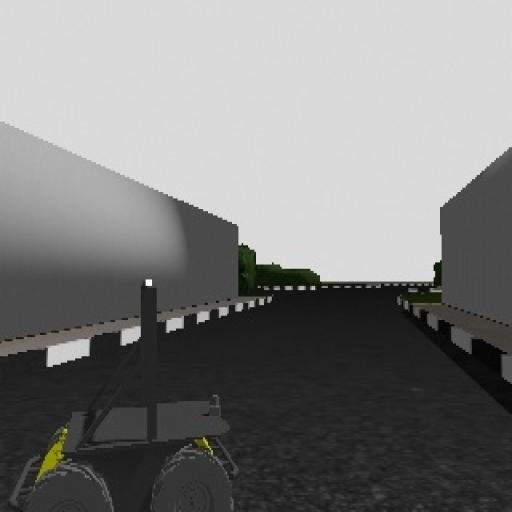huskya200: (4, 260, 270, 512)
